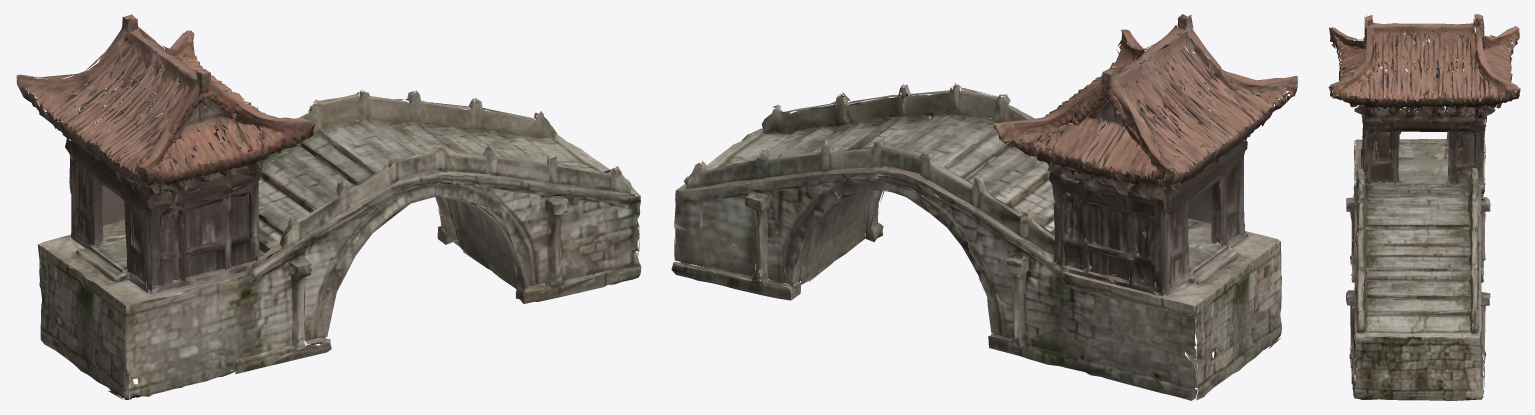
The model's file is bridge_opt.glb.
The picture shows the model from 3 angles, left to right: view 1: azimuth 30°, elevation 25°; view 2: azimuth 150°, elevation 25°; view 3: azimuth 270°, elevation 25°; orthographic projection. The views are drawn at different scales.
Visible parts, largest first — view 1: geometry_0; view 2: geometry_0; view 3: geometry_0.
Boxes of the visible parts, x1,y1,x2,y2 form: geometry_0: (16, 14, 641, 399); geometry_0: (671, 14, 1298, 400); geometry_0: (1328, 14, 1520, 400).
Size of the model in its own units: 4.5 by 2.54 by 1.93.
Materials: 1 (1 with a texture image).
